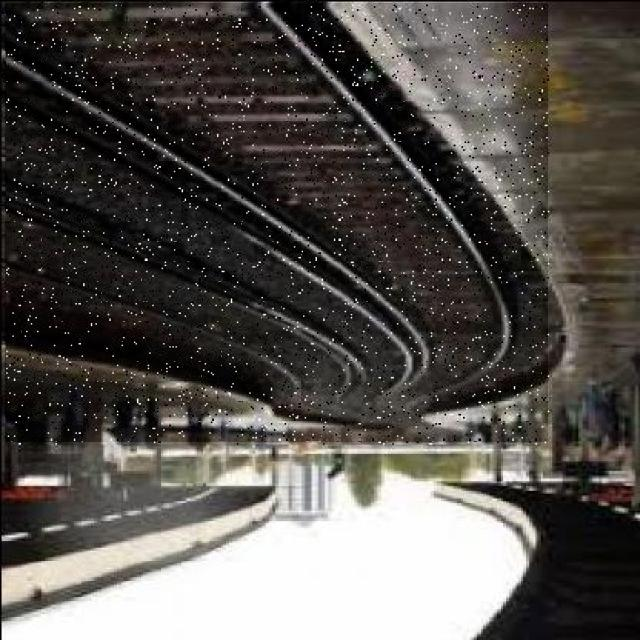rail: (6, 4, 549, 443)
